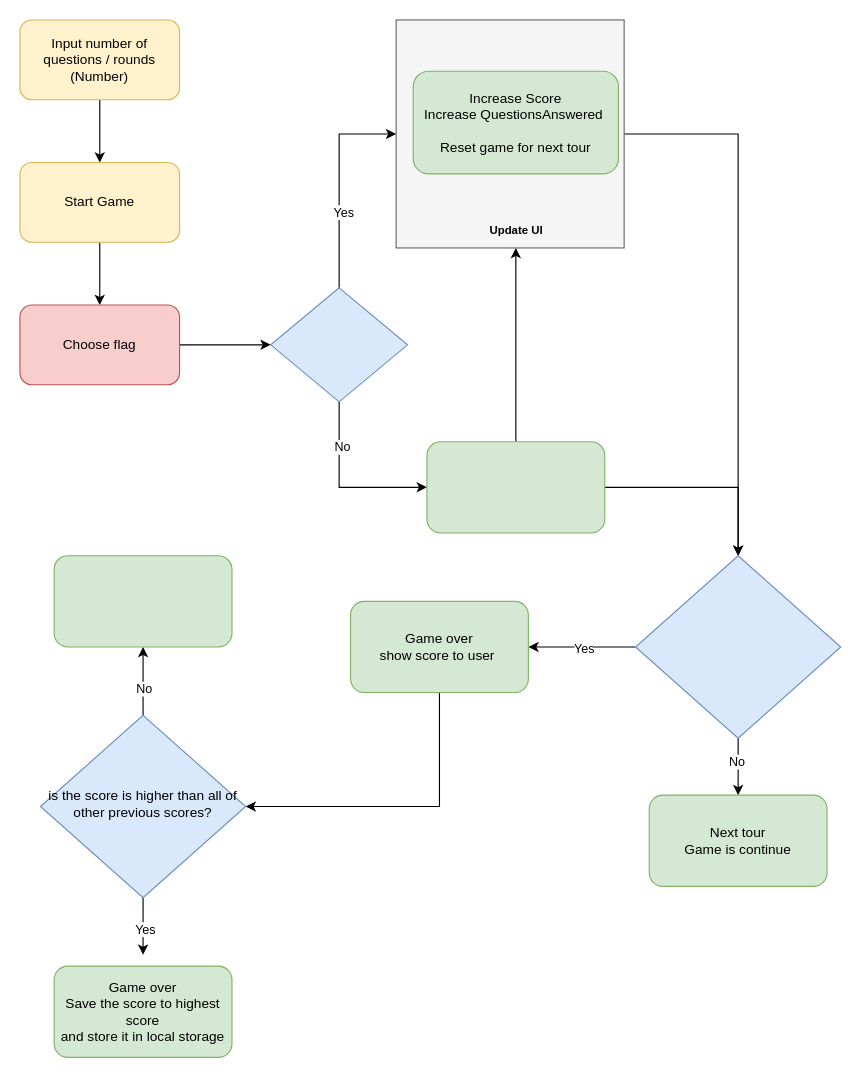
Some shapes in this 861 by 1077 pixel diagram are drawn without their labels. The centre of each missing label's shape, as x and y in pixels:
Decrase Score Increase QuestionsAnswered Reset game for next tour: [515,487]
Game over and no need save to highscore: [142,601]
Is it correct flag?: [339,344]
Numbers of questions answered === Input Questions ?: [737,646]
